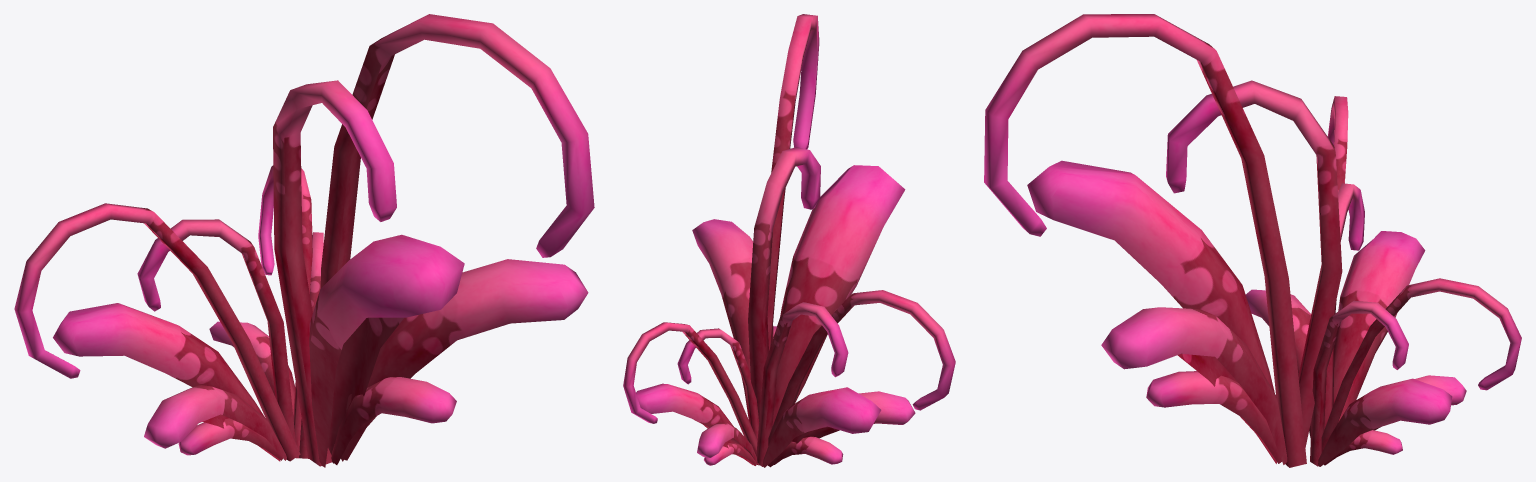
File: nazonokusa_red.fbx
3 views of the same model, side by side, from view 1: azimuth 30°, elevation 25°; view 2: azimuth 150°, elevation 25°; view 3: azimuth 270°, elevation 25° (orthographic). The views are drawn at different scales.
Parts seen in each view (by area): view 1: nazonokusa_red; view 2: nazonokusa_red; view 3: nazonokusa_red.
Boxes of the visible parts, x1,y1,x2,y2 form: nazonokusa_red: (14, 14, 594, 467); nazonokusa_red: (623, 14, 955, 467); nazonokusa_red: (984, 14, 1521, 467).
Size of the model in its own units: 285 by 303 by 311.
